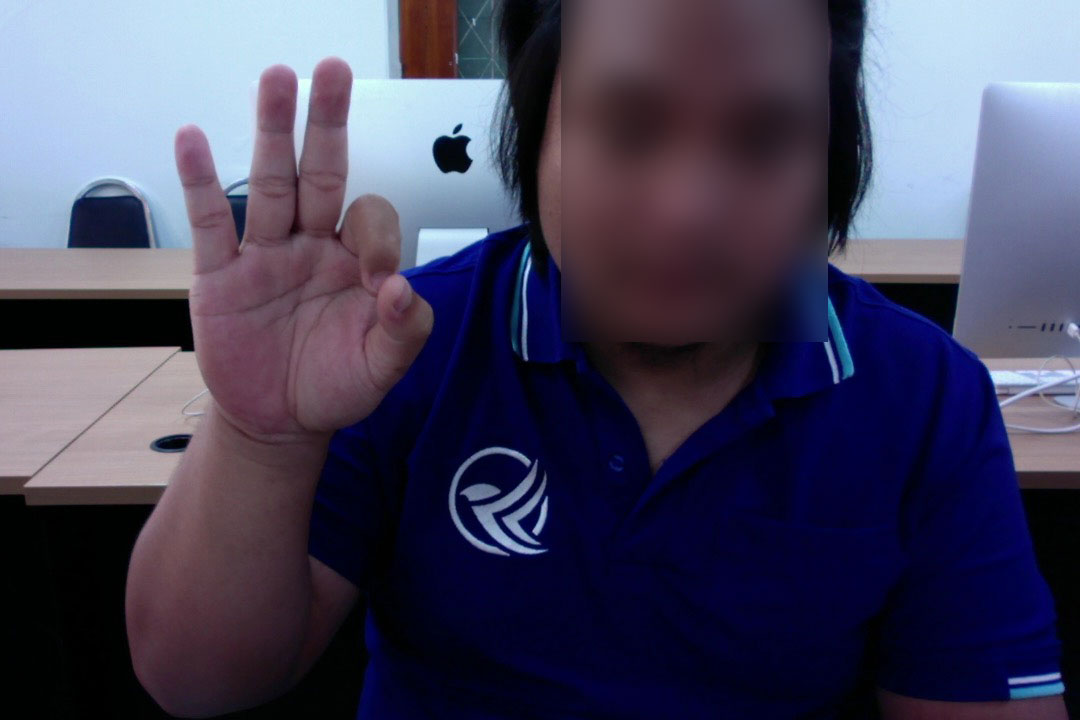for: (143, 48, 460, 474)
